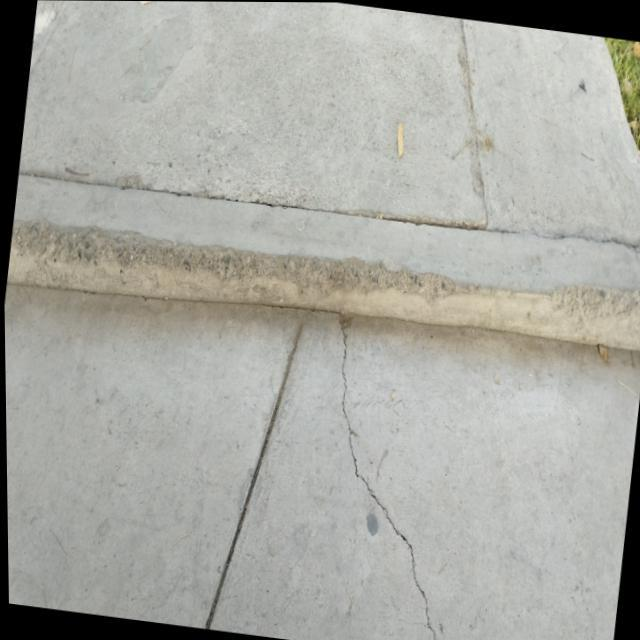bump: (31, 158, 638, 374)
